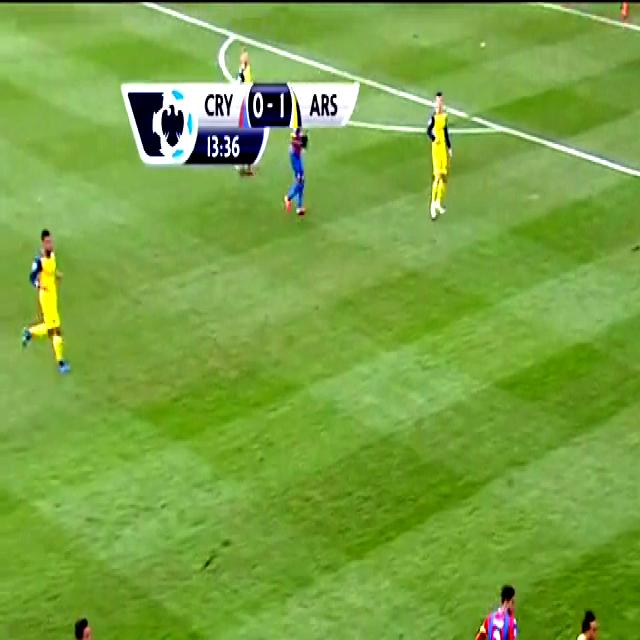soccer-player: (11, 221, 78, 380), (415, 86, 463, 225), (447, 578, 533, 640), (276, 126, 322, 226), (549, 606, 620, 640), (44, 613, 116, 640)
